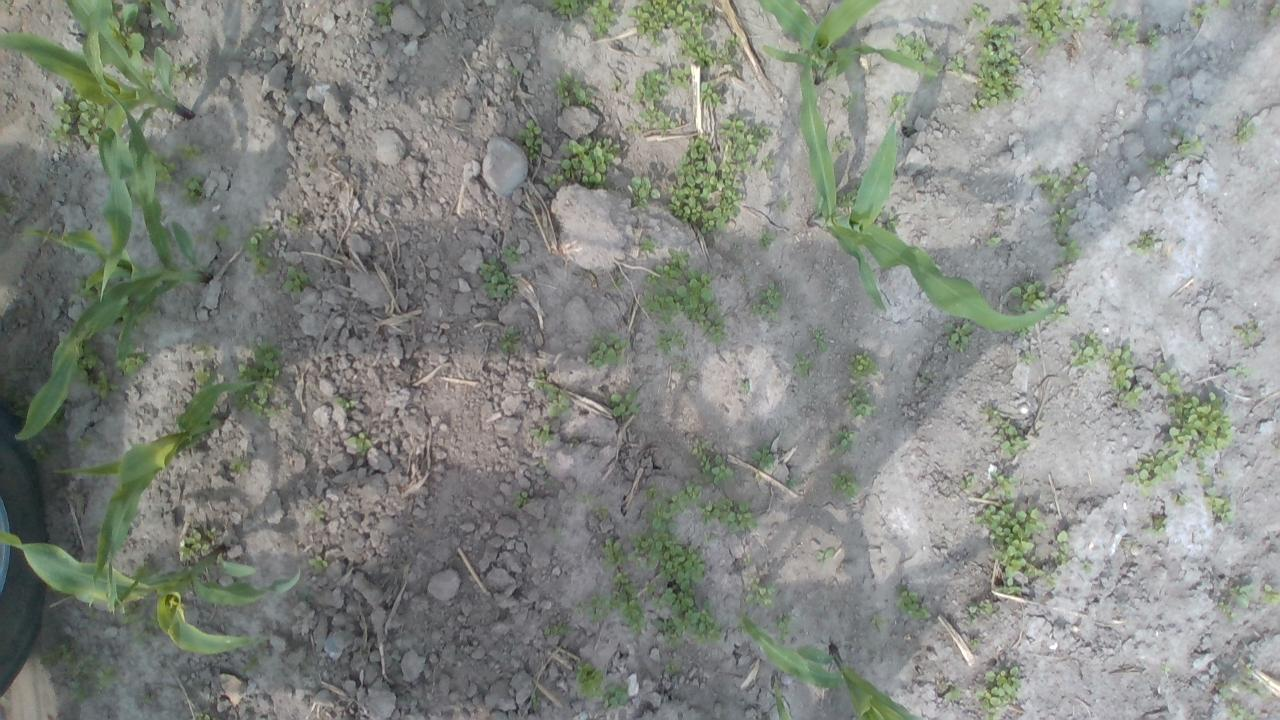Maize: (797, 56, 1054, 332), (14, 94, 212, 442), (0, 0, 194, 297), (62, 376, 255, 616), (0, 526, 300, 656), (740, 615, 925, 720), (755, 0, 940, 84), (90, 0, 178, 33)
Weeds: (668, 134, 745, 235), (974, 502, 1048, 578), (968, 23, 1025, 113), (1162, 390, 1234, 461), (648, 579, 721, 649), (230, 336, 286, 418), (45, 80, 108, 150), (628, 529, 706, 583), (627, 0, 715, 45), (560, 134, 622, 191), (717, 113, 776, 170), (648, 480, 701, 531), (104, 1, 147, 63), (1020, 0, 1062, 63), (974, 665, 1022, 720), (606, 572, 648, 634), (981, 408, 1030, 459), (674, 269, 716, 323), (699, 497, 758, 534), (678, 34, 738, 69), (1125, 450, 1177, 490), (692, 437, 734, 485), (644, 247, 688, 290), (241, 222, 276, 275), (478, 255, 518, 298), (1030, 172, 1080, 206), (70, 652, 100, 704), (113, 338, 149, 380), (70, 339, 102, 386), (642, 286, 679, 326), (1006, 280, 1048, 315), (586, 332, 629, 366), (118, 296, 158, 332), (552, 72, 592, 108), (75, 269, 114, 305), (1105, 346, 1136, 390), (630, 70, 670, 104), (752, 280, 784, 322), (584, 0, 619, 37), (574, 658, 606, 698), (148, 150, 180, 190), (1070, 332, 1105, 368), (894, 585, 929, 620), (894, 30, 928, 66), (516, 119, 544, 160), (942, 316, 972, 354), (830, 468, 864, 500), (1152, 360, 1182, 396), (640, 103, 677, 132), (180, 172, 208, 210), (179, 528, 210, 562), (1108, 16, 1140, 48), (132, 615, 162, 648), (846, 384, 876, 417), (38, 640, 75, 666), (744, 578, 776, 608), (1174, 127, 1204, 158), (1203, 492, 1233, 523), (986, 472, 1020, 499), (286, 265, 314, 296), (1050, 207, 1076, 240), (848, 352, 878, 380), (546, 0, 590, 19), (602, 538, 628, 570), (545, 384, 569, 418), (1062, 0, 1088, 31), (610, 391, 640, 417), (94, 371, 122, 398), (347, 431, 375, 458), (1230, 582, 1257, 610), (656, 328, 685, 354), (874, 204, 899, 234), (630, 176, 651, 209), (1232, 118, 1258, 144), (1131, 232, 1159, 256), (12, 391, 36, 419), (703, 316, 727, 344), (1026, 564, 1056, 586), (1242, 662, 1264, 692), (370, 0, 395, 26), (831, 430, 856, 456), (193, 365, 218, 390), (1119, 385, 1145, 409), (886, 93, 910, 119), (792, 351, 816, 377), (699, 82, 725, 106), (670, 66, 694, 91), (771, 613, 792, 641), (1227, 701, 1257, 720), (178, 142, 206, 162), (1083, 0, 1114, 18), (1055, 529, 1070, 566), (1235, 320, 1258, 344), (751, 446, 774, 470), (501, 328, 522, 354), (1196, 461, 1216, 488), (45, 409, 67, 433), (590, 594, 608, 623), (96, 663, 116, 689), (30, 444, 57, 463), (133, 560, 160, 579), (1059, 240, 1082, 262), (1190, 3, 1212, 26), (604, 686, 630, 705), (969, 2, 992, 23), (924, 56, 944, 80), (208, 222, 232, 242), (1216, 678, 1240, 698), (532, 424, 554, 445), (835, 189, 859, 208), (1217, 600, 1239, 620), (121, 601, 140, 624), (1046, 303, 1070, 321), (868, 613, 888, 634), (1142, 517, 1165, 535), (1263, 582, 1280, 606), (308, 554, 328, 574), (830, 134, 850, 154), (1000, 576, 1021, 595), (842, 92, 860, 114), (76, 433, 98, 450), (168, 62, 188, 80), (1154, 158, 1172, 177), (140, 63, 158, 82), (230, 455, 248, 474), (542, 624, 570, 636), (949, 55, 966, 74), (814, 330, 828, 353), (1146, 28, 1161, 49), (814, 546, 835, 561), (241, 656, 258, 674), (504, 244, 521, 262), (943, 684, 962, 700), (966, 600, 978, 625), (1226, 365, 1252, 376), (1022, 351, 1042, 365), (639, 236, 656, 252), (758, 229, 774, 246), (1071, 162, 1089, 177), (1013, 324, 1035, 336), (544, 174, 564, 187), (957, 474, 973, 490), (335, 395, 354, 408), (1127, 74, 1143, 89), (980, 599, 994, 615), (983, 237, 1002, 248), (516, 490, 528, 507), (0, 198, 11, 216), (534, 372, 545, 390), (286, 214, 300, 228), (1172, 493, 1186, 507), (775, 197, 790, 210), (311, 505, 323, 520), (196, 710, 213, 720), (1267, 6, 1280, 19), (665, 662, 681, 672), (1152, 82, 1166, 93), (508, 65, 519, 78), (610, 278, 624, 288), (1216, 0, 1233, 8), (740, 380, 751, 391), (531, 697, 541, 709), (918, 373, 928, 384), (968, 638, 978, 649), (679, 361, 689, 371), (576, 495, 590, 502), (744, 553, 752, 565), (1053, 264, 1064, 272), (787, 478, 796, 487)
